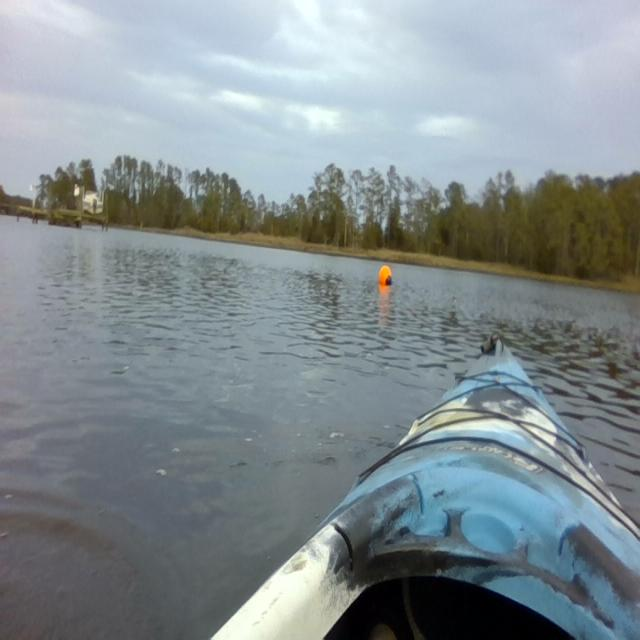Buoy: (377, 264, 394, 287)
